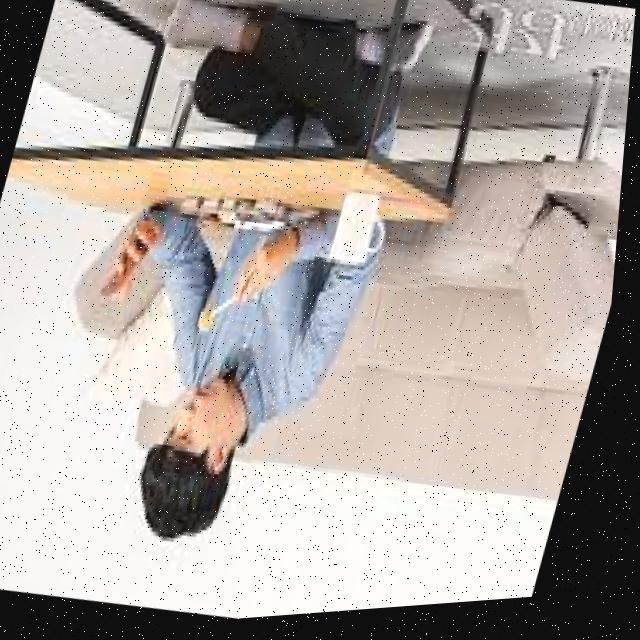eating-person: (14, 0, 460, 608)
